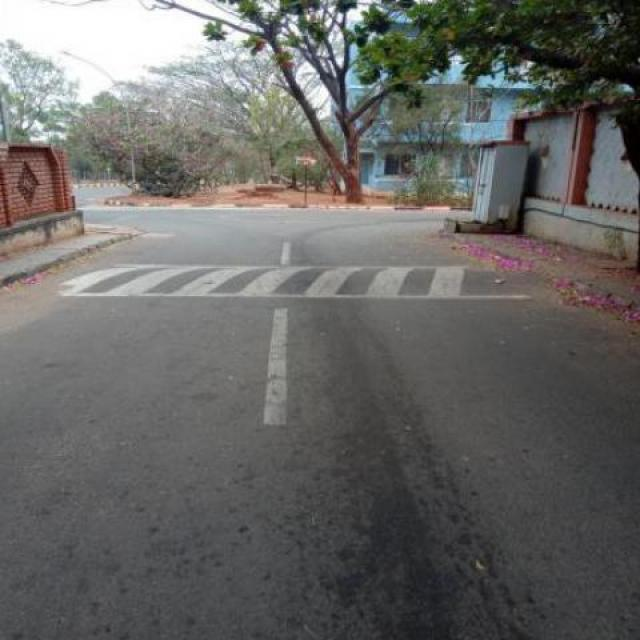Speed Bump: (52, 264, 558, 298)
